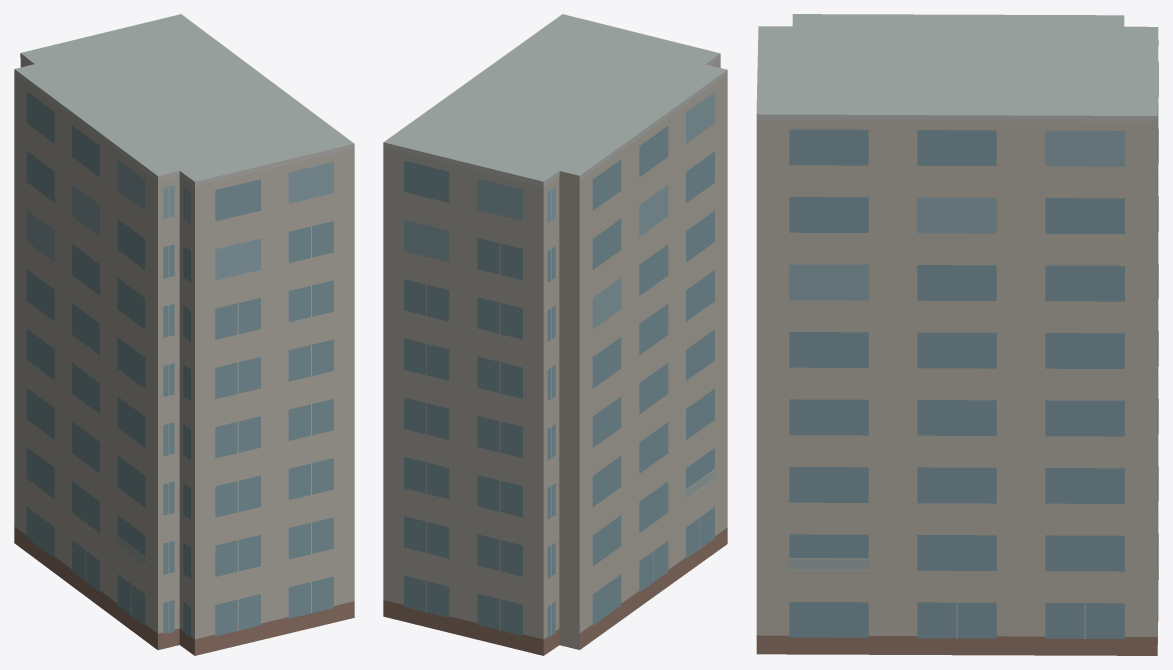
The model's file is survey-upis-32752245.glb.
3 views of the same model, side by side, from view 1: azimuth 30°, elevation 25°; view 2: azimuth 150°, elevation 25°; view 3: azimuth 270°, elevation 25° (orthographic). The views are drawn at different scales.
Parts seen in each view (by area): view 1: survey-upis-32752245.tmp; view 2: survey-upis-32752245.tmp; view 3: survey-upis-32752245.tmp.
Part boxes in pixels (bbox=[...]): survey-upis-32752245.tmp: bbox=[14, 14, 354, 655]; survey-upis-32752245.tmp: bbox=[383, 14, 727, 655]; survey-upis-32752245.tmp: bbox=[756, 14, 1158, 655].
Size of the model in its own units: 9.93 by 24.4 by 16.48.
